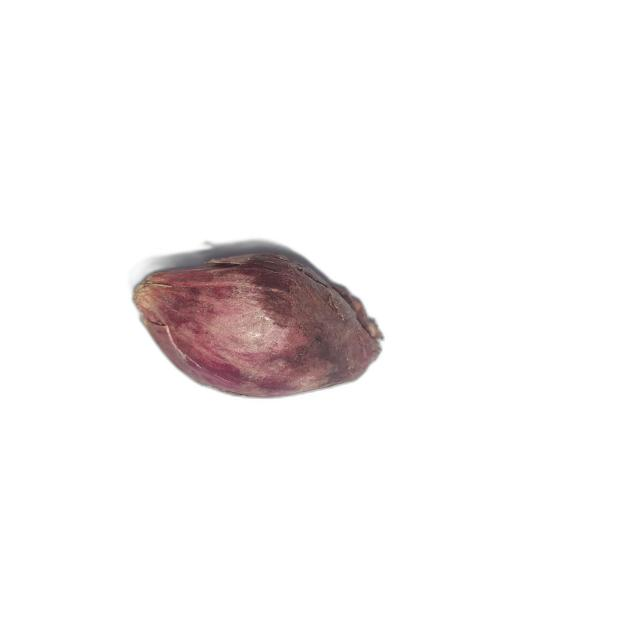onion: (132, 253, 384, 398)
